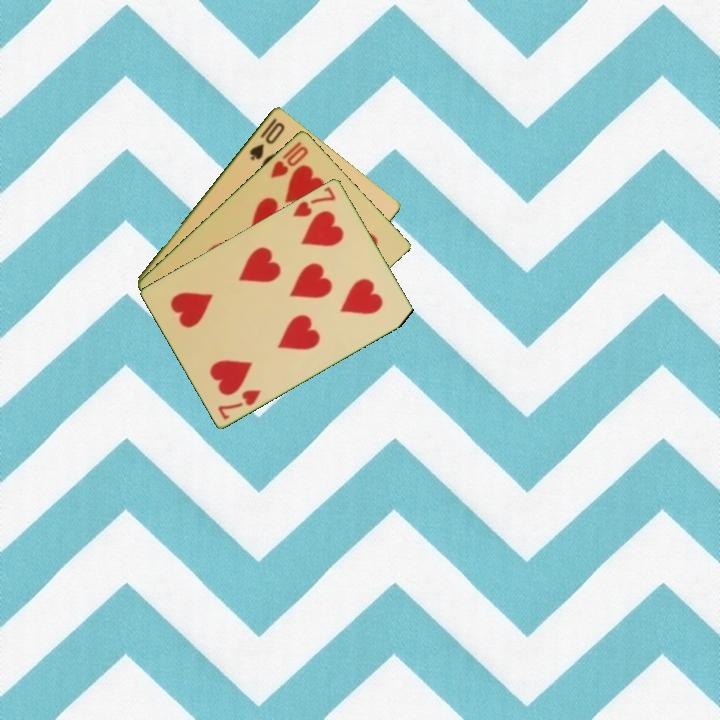10h: (267, 137, 311, 181)
10s: (246, 118, 288, 163)
7h: (289, 182, 339, 220), (214, 386, 264, 422)
